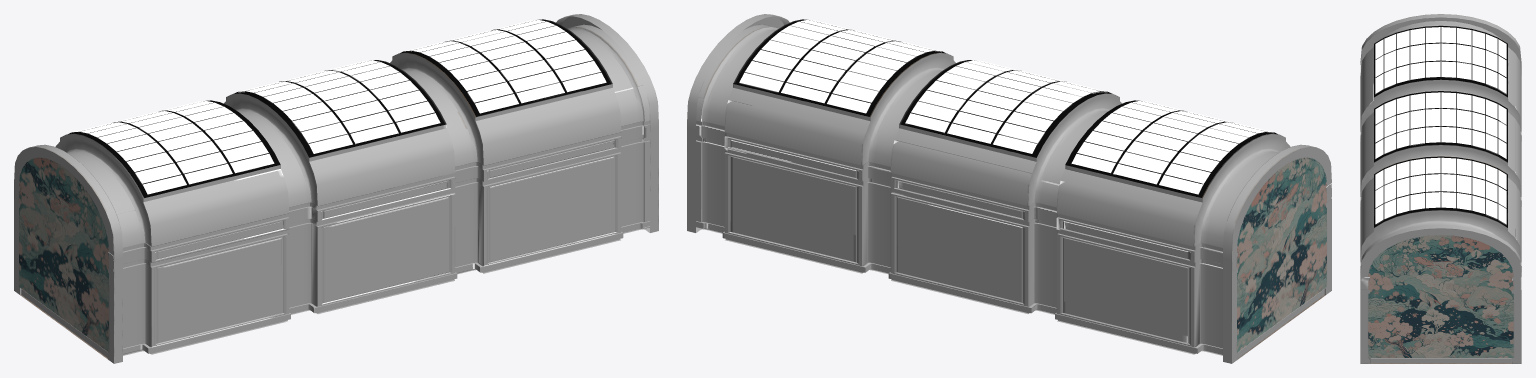
File: VR Gallery.fbx
3 views of the same model, side by side, from view 1: azimuth 30°, elevation 25°; view 2: azimuth 150°, elevation 25°; view 3: azimuth 270°, elevation 25° (orthographic). The views are drawn at different scales.
Parts seen in each view (by area): view 1: Gallery; view 2: Gallery; view 3: Gallery.
Boxes of the visible parts, bbox=[...] form: Gallery: bbox=[14, 14, 658, 363]; Gallery: bbox=[687, 14, 1331, 363]; Gallery: bbox=[1360, 14, 1521, 363].
Bounding box in the file's own units: 4921 × 1495 × 1565.
